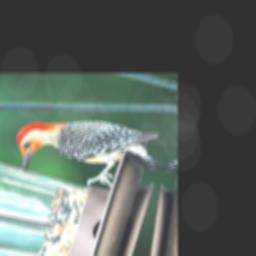Woodpecker: (8, 107, 169, 195)
